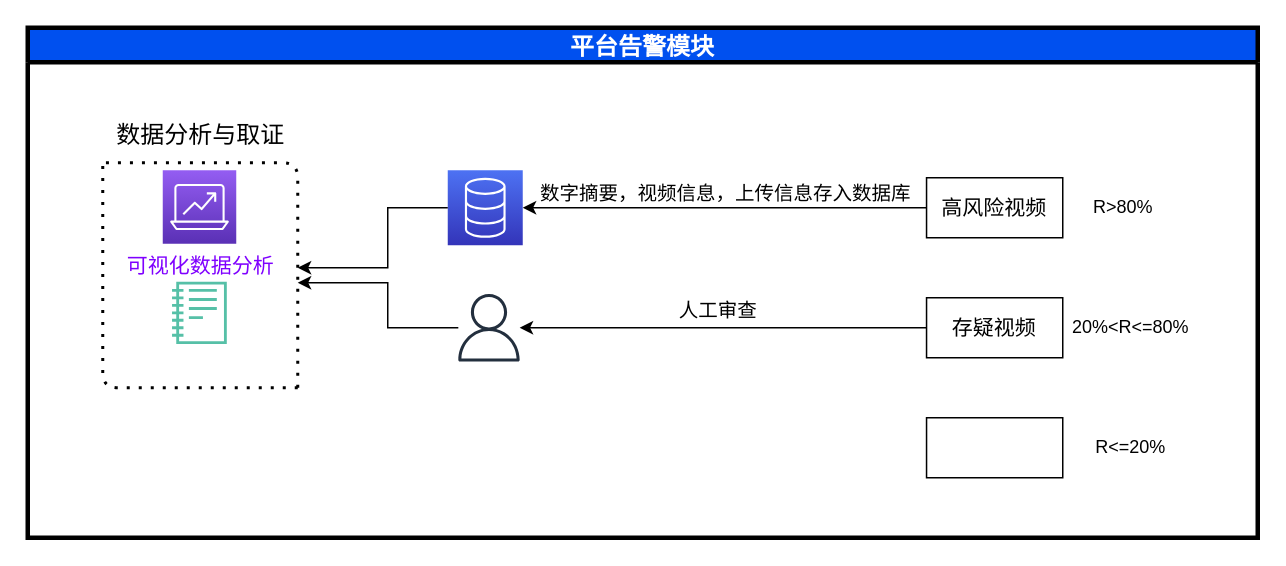
The diagram is 1286 pixels wide and 566 high, and some of its shapes have lost their labels. The shapes that lost their labels are listed below. From the top down, each one's centre as x and y in pixels, then its label:
the point at 198,312: 对敏感视频取证
the point at 994,447: 低风险视频
